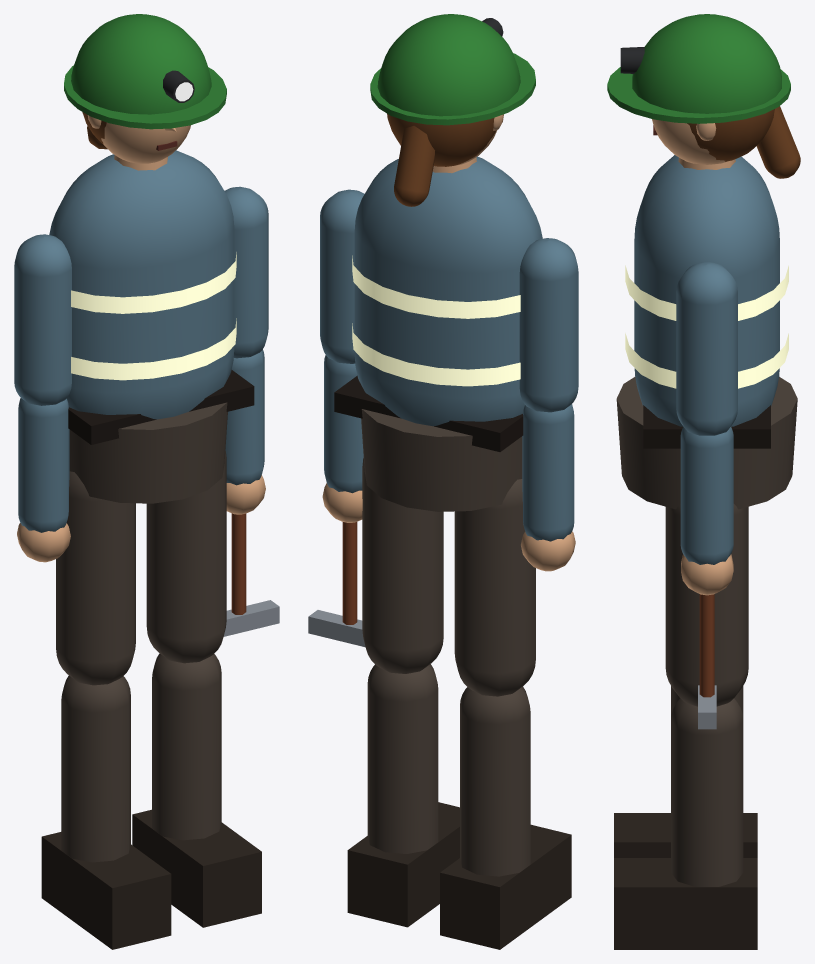
The model's file is worker_luciana.glb.
3 renders of one model, left to right at view 1: azimuth 30°, elevation 25°; view 2: azimuth 150°, elevation 25°; view 3: azimuth 270°, elevation 25°, orthographic.
Parts seen in each view (by area): view 1: worker_torso, worker_legs_0_knee, worker_legs_1_knee, worker_head, worker_legs_0_hip, worker_legs_1_hip, worker_arms_0_sh, worker_arms_0_el, worker_arms_1_sh, worker_arms_1_el, worker_prop, worker_arms_0_hand (+1 smaller); view 2: worker_torso, worker_legs_0_knee, worker_legs_1_knee, worker_head, worker_legs_0_hip, worker_legs_1_hip, worker_arms_0_sh, worker_arms_0_el, worker_arms_1_sh, worker_arms_1_el, worker_prop, worker_arms_0_hand (+1 smaller); view 3: worker_torso, worker_legs_1_knee, worker_head, worker_legs_1_hip, worker_arms_1_sh, worker_arms_1_el, worker_legs_0_knee, worker_prop, worker_arms_1_hand.
Boxes of the visible parts, x1,y1,x2,y2 form: worker_torso: [49, 150, 254, 503]; worker_legs_0_knee: [41, 675, 171, 949]; worker_legs_1_knee: [132, 653, 261, 927]; worker_head: [64, 14, 226, 163]; worker_legs_0_hip: [56, 471, 135, 685]; worker_legs_1_hip: [146, 450, 226, 663]; worker_arms_0_sh: [14, 234, 71, 405]; worker_arms_0_el: [18, 398, 69, 532]; worker_arms_1_sh: [224, 186, 268, 358]; worker_arms_1_el: [225, 349, 264, 485]; worker_prop: [223, 513, 279, 636]; worker_arms_0_hand: [17, 523, 70, 562]; worker_torso: [334, 156, 542, 511]; worker_legs_0_knee: [440, 686, 571, 949]; worker_legs_1_knee: [347, 664, 459, 927]; worker_head: [370, 14, 535, 206]; worker_legs_0_hip: [454, 479, 535, 696]; worker_legs_1_hip: [362, 458, 443, 673]; worker_arms_0_sh: [519, 238, 578, 412]; worker_arms_0_el: [522, 404, 574, 541]; worker_arms_1_sh: [320, 189, 364, 363]; worker_arms_1_el: [324, 355, 363, 493]; worker_prop: [308, 522, 365, 647]; worker_arms_0_hand: [521, 531, 575, 571]; worker_torso: [616, 155, 797, 509]; worker_legs_1_knee: [614, 698, 757, 949]; worker_head: [607, 14, 800, 178]; worker_legs_1_hip: [665, 504, 748, 706]; worker_arms_1_sh: [676, 262, 737, 435]; worker_arms_1_el: [680, 427, 733, 564]; worker_legs_0_knee: [614, 686, 757, 857]; worker_prop: [698, 594, 716, 729]; worker_arms_1_hand: [681, 554, 733, 595].
Bounding box in the file's own units: 0.5652 × 1.85 × 0.363.
